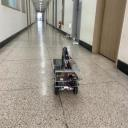cart: (54, 61, 80, 94)
